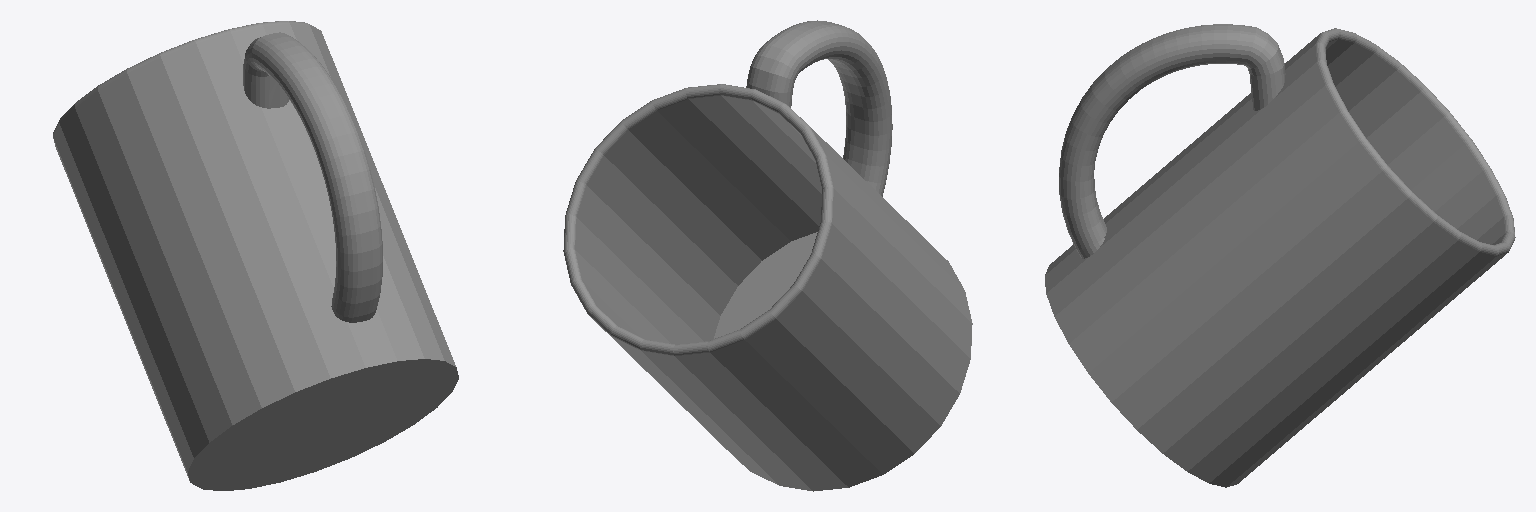
The robot description file, URDF, robot "cube.urdf":
<?xml version="0.0" ?> 
<robot name="cube.urdf"> 
<link name="legobrick"> 
<contact> 
<lateral_friction value="1.0"/>
<rolling_friction value="0.0"/>
<contact_cfm value="0.0"/>
<contact_erp value="1.0"/>
</contact> 
<inertial> 
<origin rpy="0 0 0" xyz="0.0 0.0 0.0"/> 
<mass value="0.1"/> 
<inertia ixx="1" ixy="0" ixz="0" iyy="1" iyz="0" izz="1"/> 
</inertial> 
<visual> 
<origin rpy="1.570796 0 0" xyz="-0.0001852068669527901 0.004601990557939918 -0.013144862660944227"/> 
<geometry> 
<mesh filename="403fb4eb4fc6235adf0c7dbe7f8f4c8e_1.obj" scale="1 1 1"/> 
</geometry> 
<material name="yellow"> 
<color rgba="0.6 0.6 0.6 1"/> 
</material> 
</visual> 
<collision> 
<origin rpy="1.570796 0 0" xyz="-0.0001852068669527901 0.004601990557939918 -0.013144862660944227"/> 
<geometry> 
<mesh filename="403fb4eb4fc6235adf0c7dbe7f8f4c8e_1_col.obj" scale="1 1 1"/> 
</geometry> 
</collision> 
</link> 
</robot>

--- What the picture shows (computed from the rendered views, not written in the file) ---
3 views of the same robot in one strip: view 1: azimuth 30°, elevation 25°; view 2: azimuth 150°, elevation 25°; view 3: azimuth 270°, elevation 25° (orthographic).
Robot: cube.urdf — 1 links, 0 joints (none); root link legobrick; default pose: all joints at 0.
Visible links, largest first — view 1: legobrick; view 2: legobrick; view 3: legobrick.
Boxes of the visible links, x1,y1,x2,y2 form: legobrick: (53, 21, 458, 490); legobrick: (563, 20, 972, 491); legobrick: (1045, 24, 1515, 487).
Size in the robot's own frame: 0.0278 by 0.045 by 0.0467 metres.
Meshes: 1 distinct files referenced, 1 mesh visuals loaded (1 OBJ).